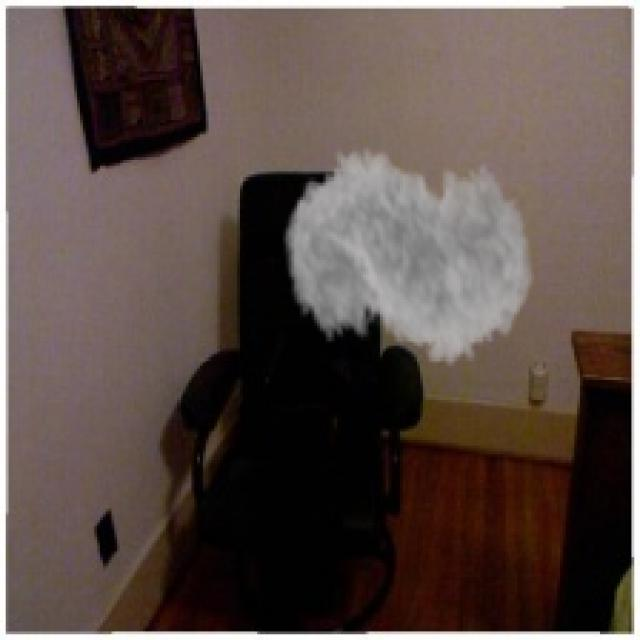smoke: (283, 120, 534, 386)
